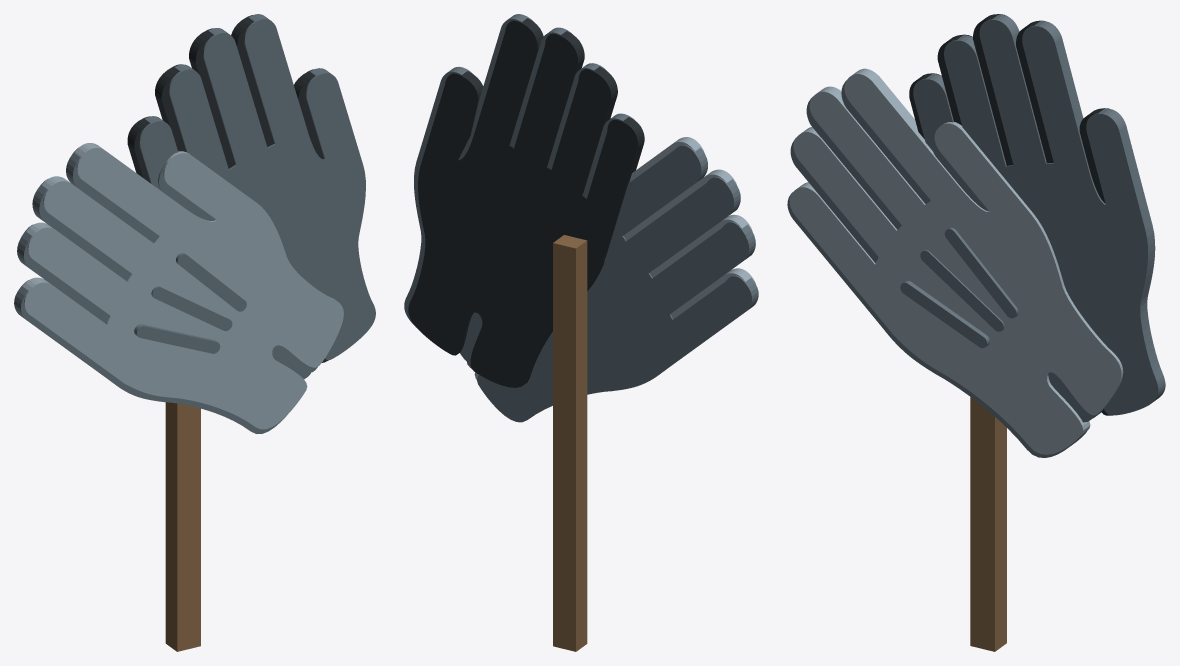
File: gants.glb
3 renders of one model, left to right at view 1: azimuth 30°, elevation 25°; view 2: azimuth 150°, elevation 25°; view 3: azimuth 330°, elevation 25°, orthographic. The views are drawn at different scales.
Size of the model in its own units: 0.9003 by 1.5 by 0.1091.
